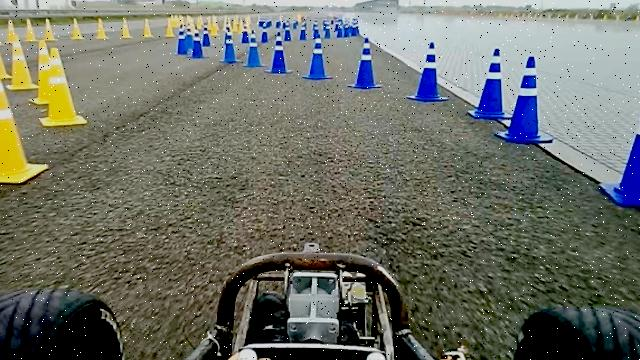blue cone: (600, 76, 640, 209), (495, 55, 554, 144), (468, 48, 514, 119), (406, 41, 449, 102), (347, 37, 383, 89), (302, 37, 333, 80), (264, 34, 294, 74), (242, 29, 267, 68), (219, 23, 242, 63), (186, 25, 209, 58), (172, 22, 188, 55)
yellow cone: (0, 64, 49, 184), (40, 46, 80, 127), (7, 37, 39, 90), (29, 44, 55, 106), (0, 28, 12, 80)
